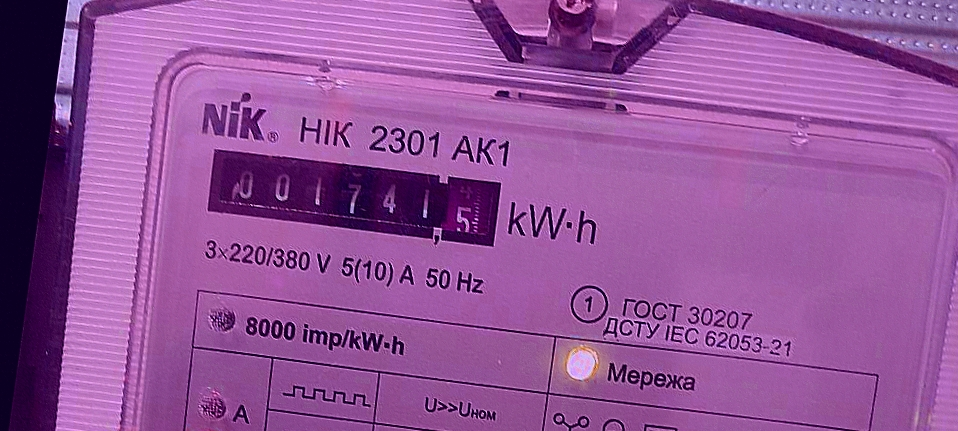0: (270, 168, 294, 204), (234, 166, 258, 201)
1: (306, 171, 328, 209), (415, 185, 435, 222)
4: (378, 179, 402, 216), (456, 181, 475, 201)
5: (451, 201, 474, 234)
7: (341, 179, 363, 216)
screen: (199, 136, 510, 258)
